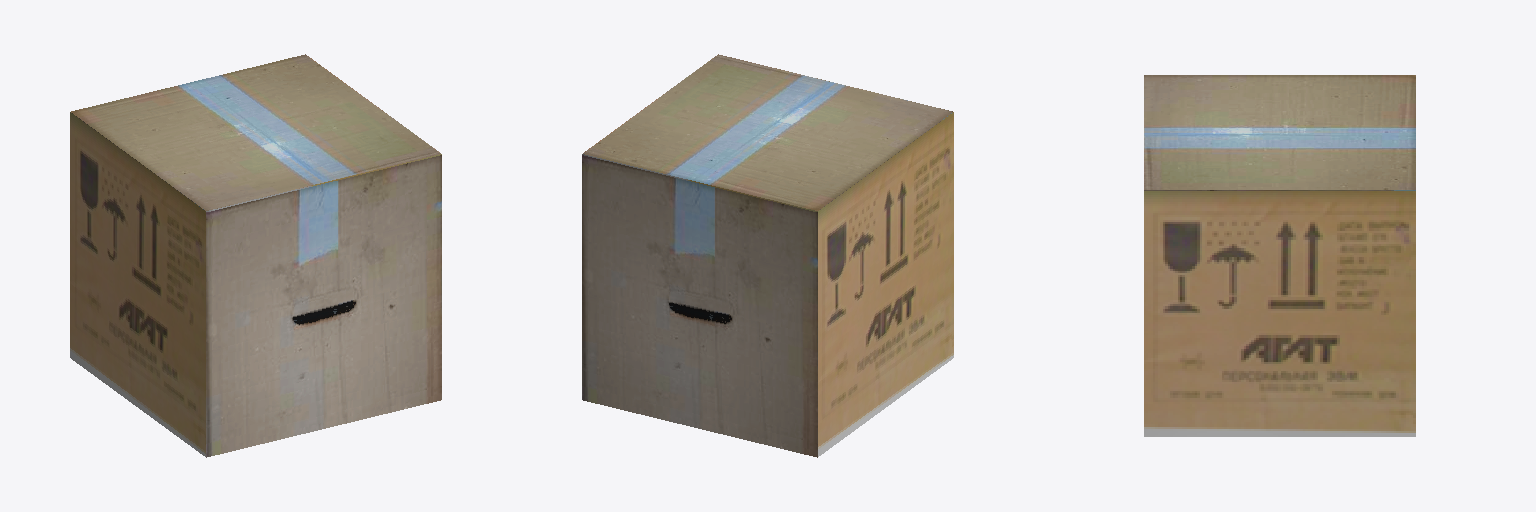
The picture shows the model from 3 angles: view 1: azimuth 30°, elevation 25°; view 2: azimuth 150°, elevation 25°; view 3: azimuth 270°, elevation 25°; orthographic projection.
Visible parts, largest first — view 1: Cube.002; view 2: Cube.002; view 3: Cube.002.
Boxes of the visible parts, x1,y1,x2,y2 form: Cube.002: [70, 54, 441, 457]; Cube.002: [582, 54, 953, 457]; Cube.002: [1144, 75, 1415, 436].
Bounding box in the file's own units: 1 × 1 × 1.
Materials: 1 (1 with a texture image).